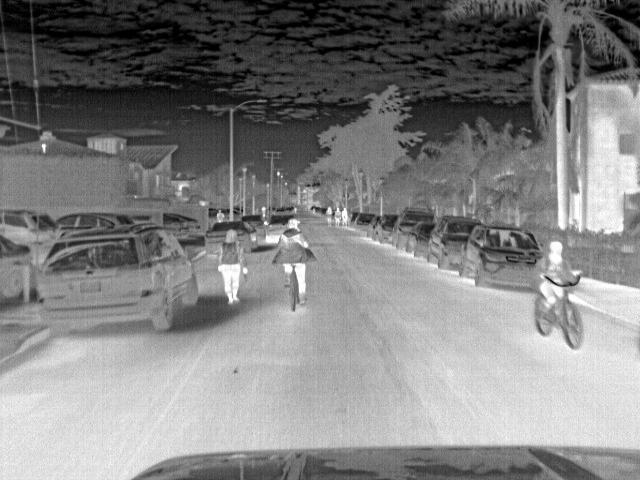car: (41, 224, 204, 335), (463, 224, 541, 290), (427, 218, 482, 270), (2, 233, 34, 299), (2, 205, 54, 242), (391, 210, 439, 249), (161, 212, 213, 243), (206, 221, 255, 253), (52, 214, 133, 232), (408, 222, 440, 257), (354, 212, 378, 231)
person: (538, 238, 576, 326), (274, 216, 307, 297), (217, 227, 248, 307), (325, 204, 335, 229), (340, 206, 350, 229), (214, 206, 226, 225), (333, 205, 342, 226)
